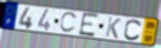4: (18, 6, 34, 30), (36, 8, 51, 33)
C: (58, 12, 79, 35), (123, 18, 143, 42)
E: (78, 11, 101, 38)
K: (104, 16, 122, 40)
